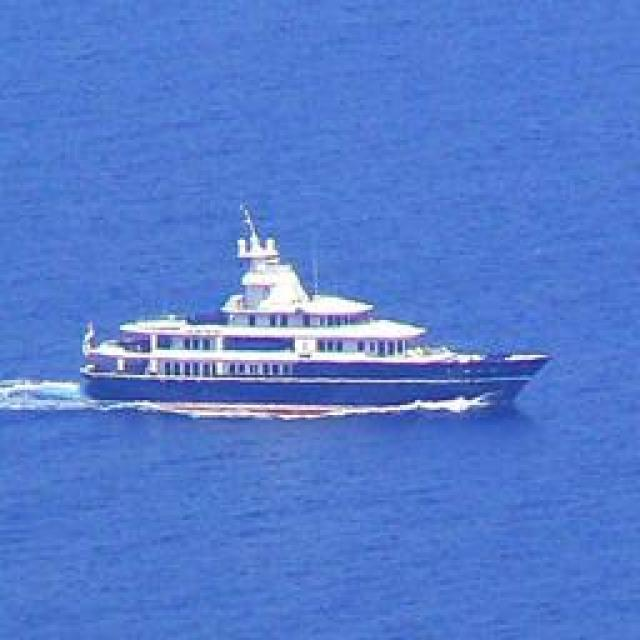CIV_Ship: (71, 198, 551, 416)
